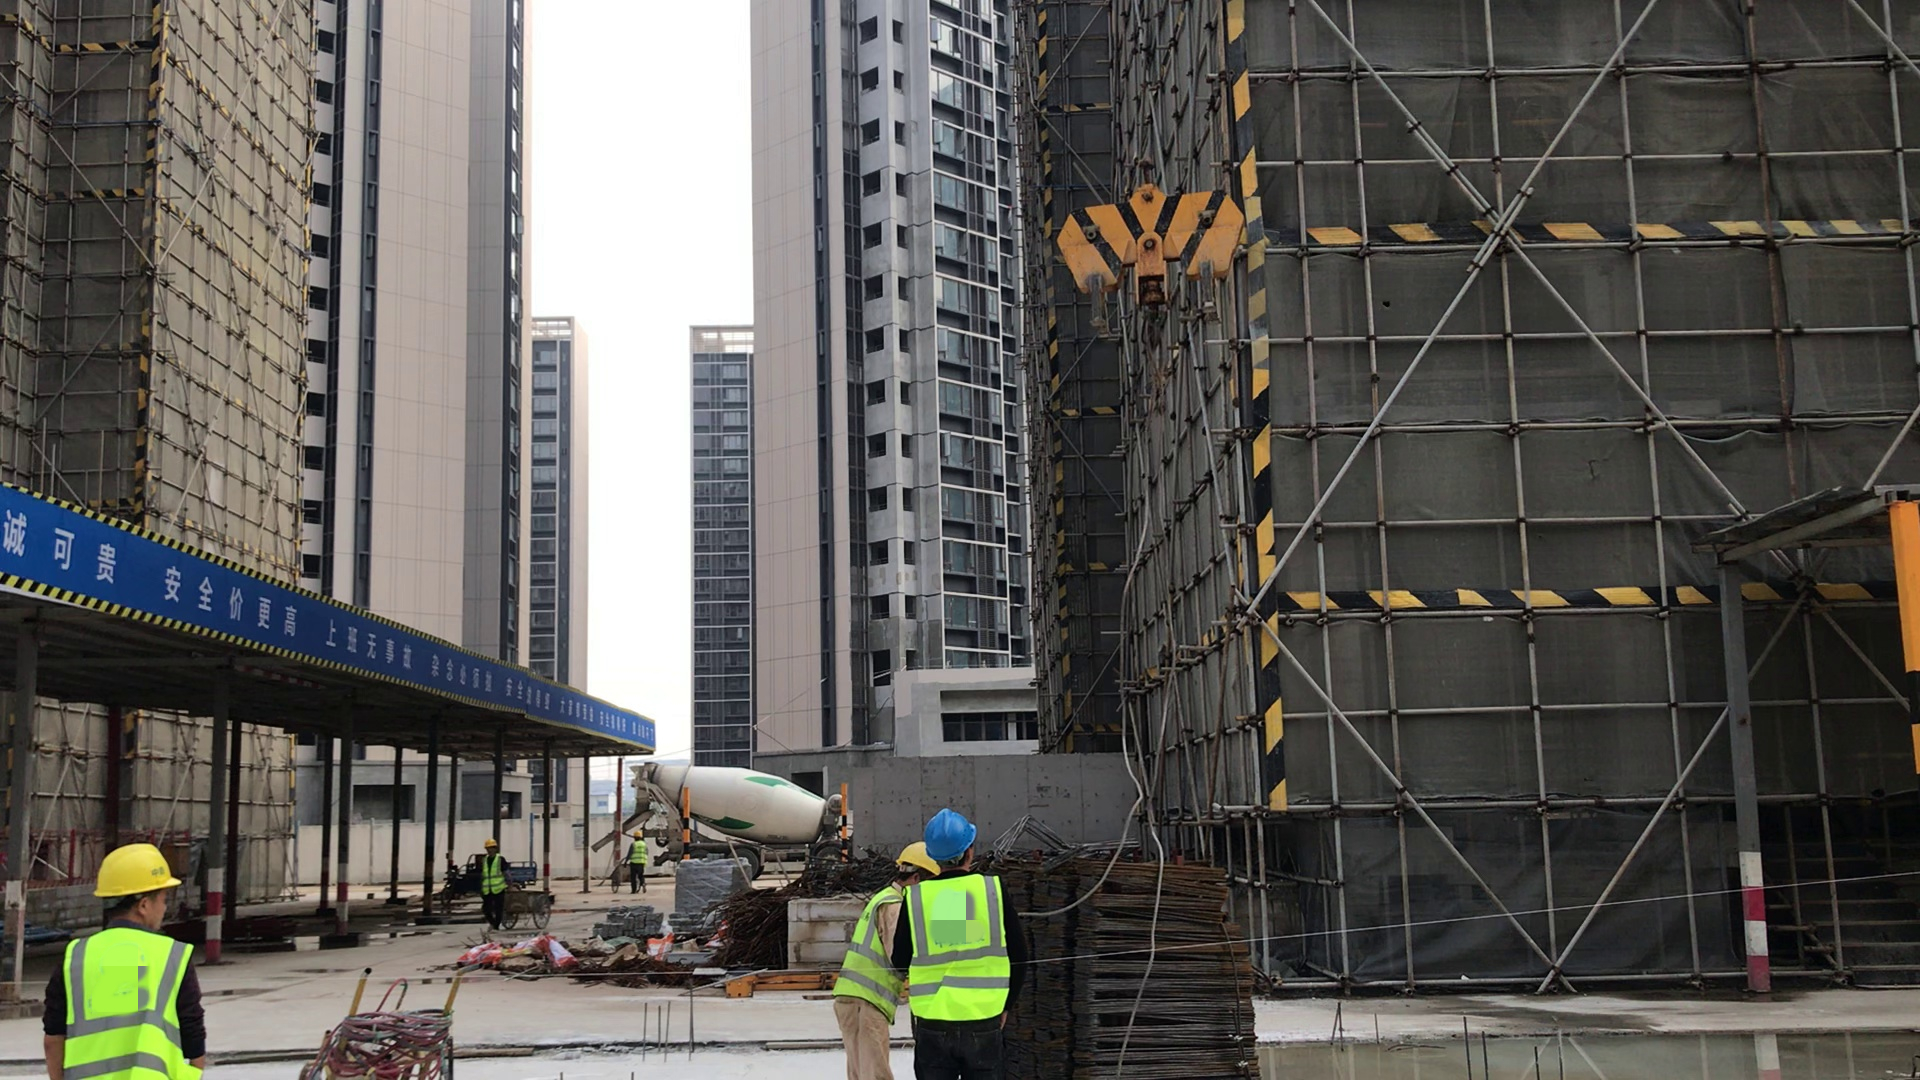handcart: (303, 964, 474, 1080), (504, 893, 555, 929), (607, 863, 645, 894)
helmet: (86, 841, 183, 894), (929, 807, 983, 863), (894, 841, 943, 879), (482, 837, 499, 847), (632, 829, 645, 840)
hook: (1039, 168, 1250, 363)
person: (37, 838, 256, 1080), (892, 798, 1044, 1079), (832, 837, 945, 1080), (463, 838, 523, 932), (623, 830, 659, 893)
slogan: (13, 485, 659, 746)
vest: (55, 934, 206, 1076), (911, 891, 1006, 1017), (834, 889, 904, 1018), (482, 856, 505, 893), (628, 842, 647, 865)
